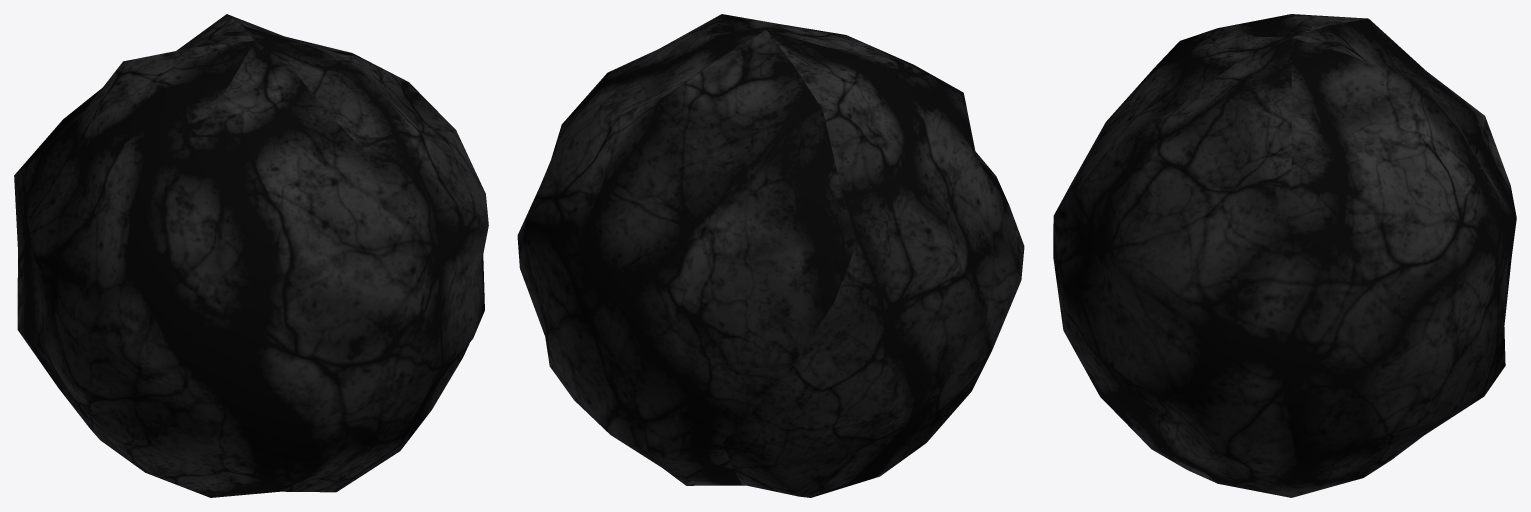
The model's file is BadThought_Ball.fbx.
The picture shows the model from 3 angles, left to right: view 1: azimuth 30°, elevation 25°; view 2: azimuth 150°, elevation 25°; view 3: azimuth 270°, elevation 25°; orthographic projection. The views are drawn at different scales.
Visible parts, largest first — view 1: Model; view 2: Model; view 3: Model.
Boxes of the visible parts, x1,y1,x2,y2 form: Model: (14, 14, 488, 497); Model: (517, 14, 1024, 497); Model: (1053, 14, 1516, 497).
Size of the model in its own units: 189 by 191 by 186.
